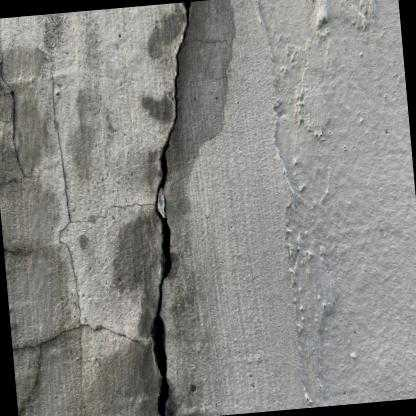crack: (147, 1, 191, 416)
